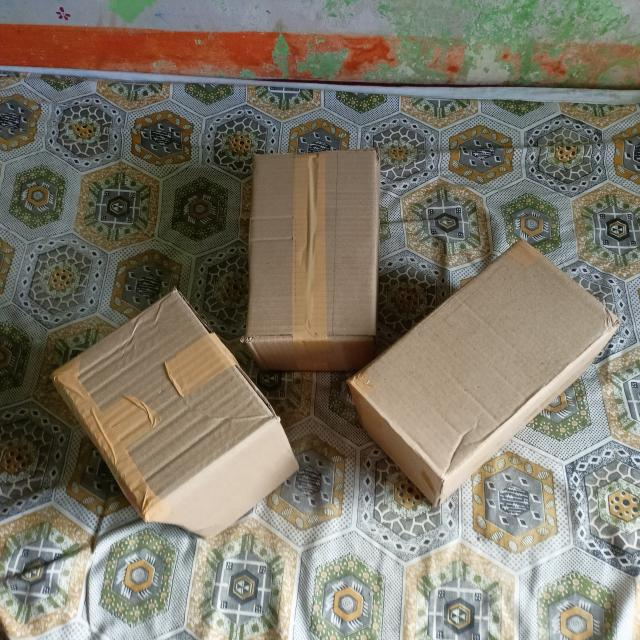box: (350, 240, 616, 482), (55, 293, 280, 513), (246, 148, 380, 340)
